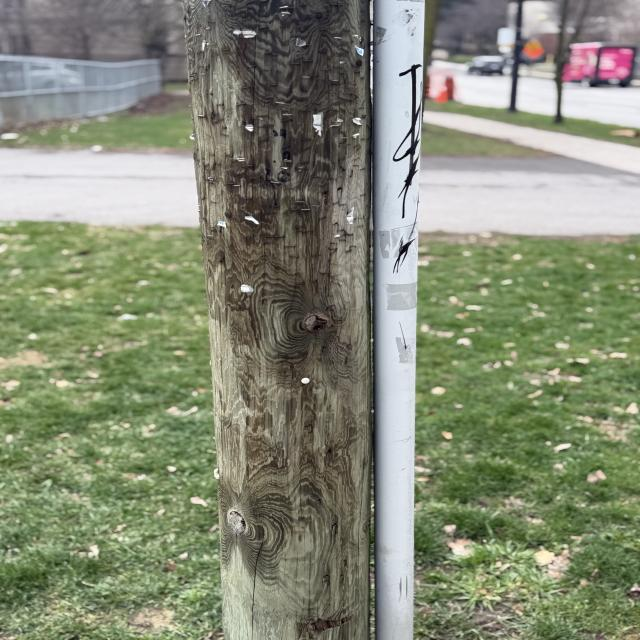Electrical Pole: (180, 2, 373, 640)
